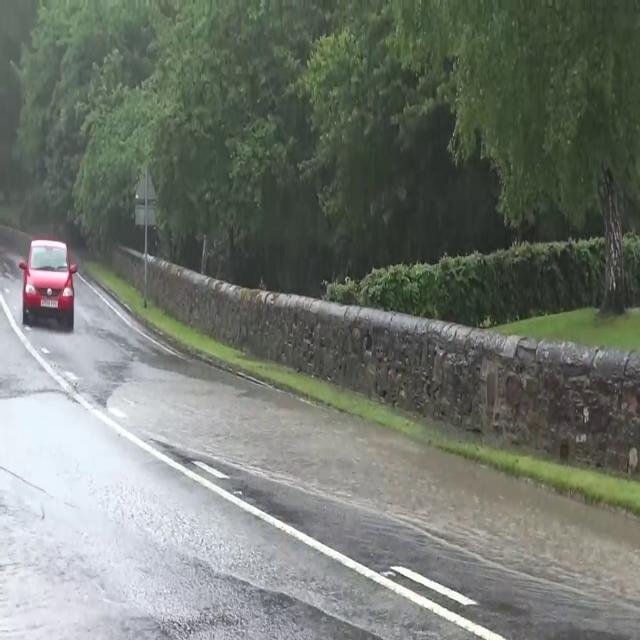license-plate-annotation: (39, 294, 60, 314)
